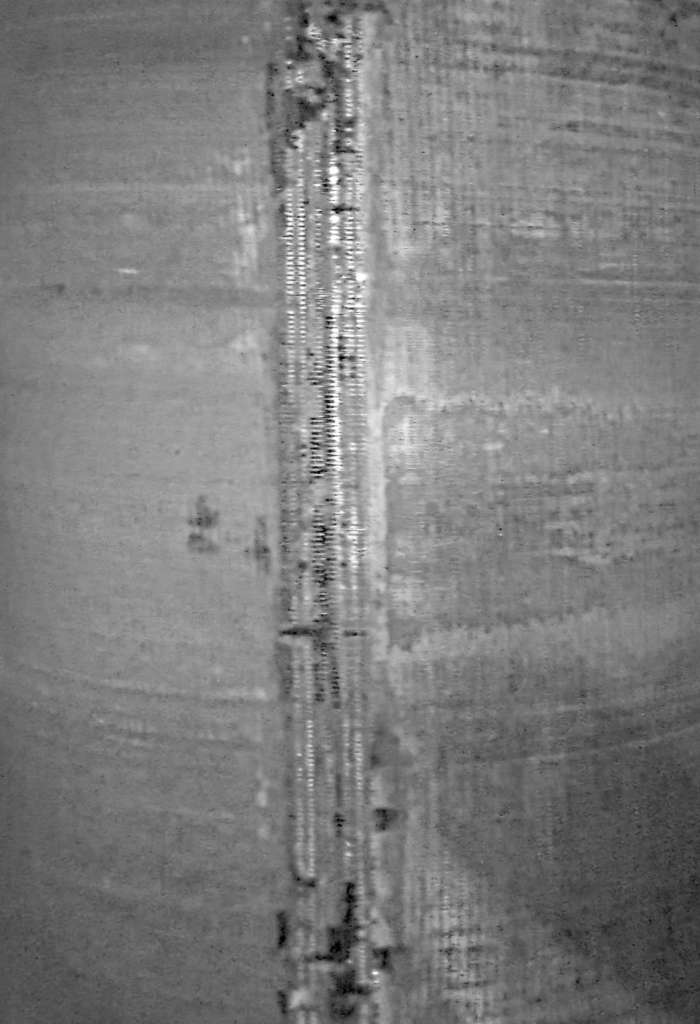splice: (261, 3, 409, 1024)
